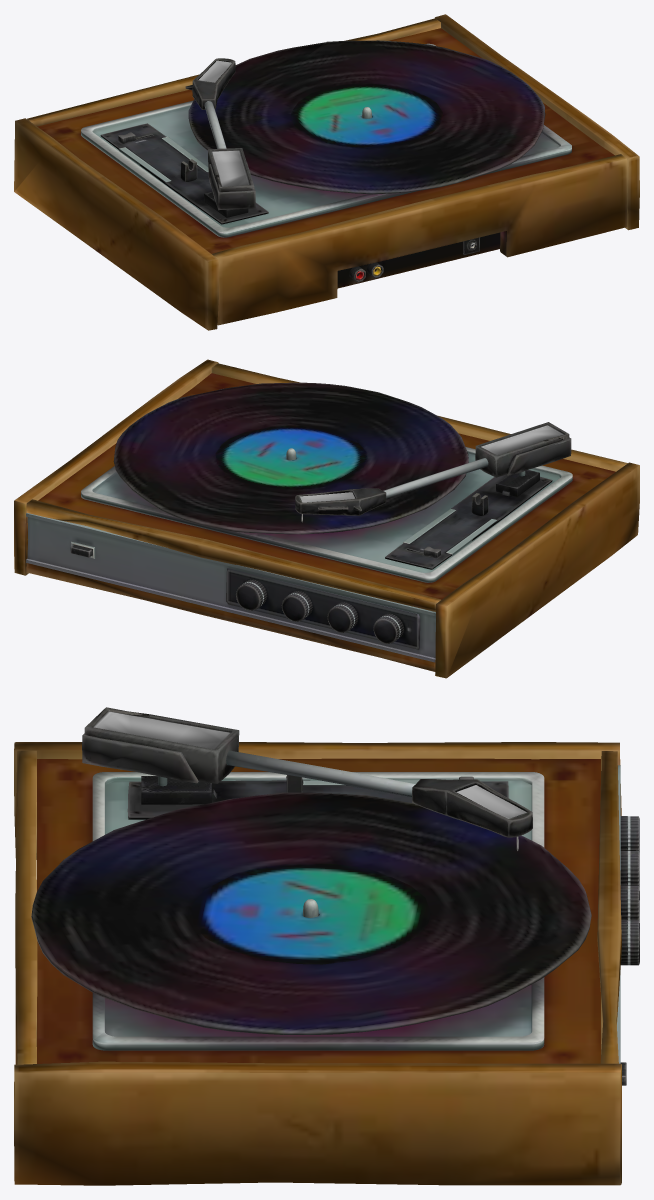
The model's file is turntable.glb.
The picture shows the model from 3 angles, top to bottom: view 1: azimuth 30°, elevation 25°; view 2: azimuth 150°, elevation 25°; view 3: azimuth 270°, elevation 25°; orthographic projection. The views are drawn at different scales.
Parts seen in each view (by area): view 1: Cube.003_0; view 2: Cube.003_0; view 3: Cube.003_0.
Boxes of the visible parts, box(x1,y1,x2,y2) form: Cube.003_0: box(14, 14, 639, 330); Cube.003_0: box(14, 359, 639, 678); Cube.003_0: box(14, 707, 639, 1185).
Size of the model in its own units: 4.56 by 1.15 by 3.62.
Materials: 14 (13 with a texture image).
